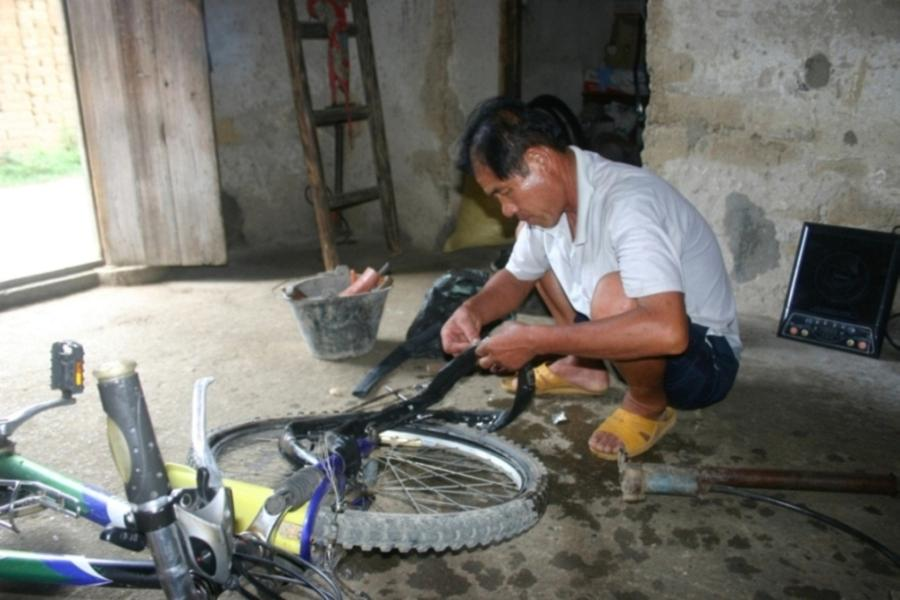person: (439, 94, 745, 463)
